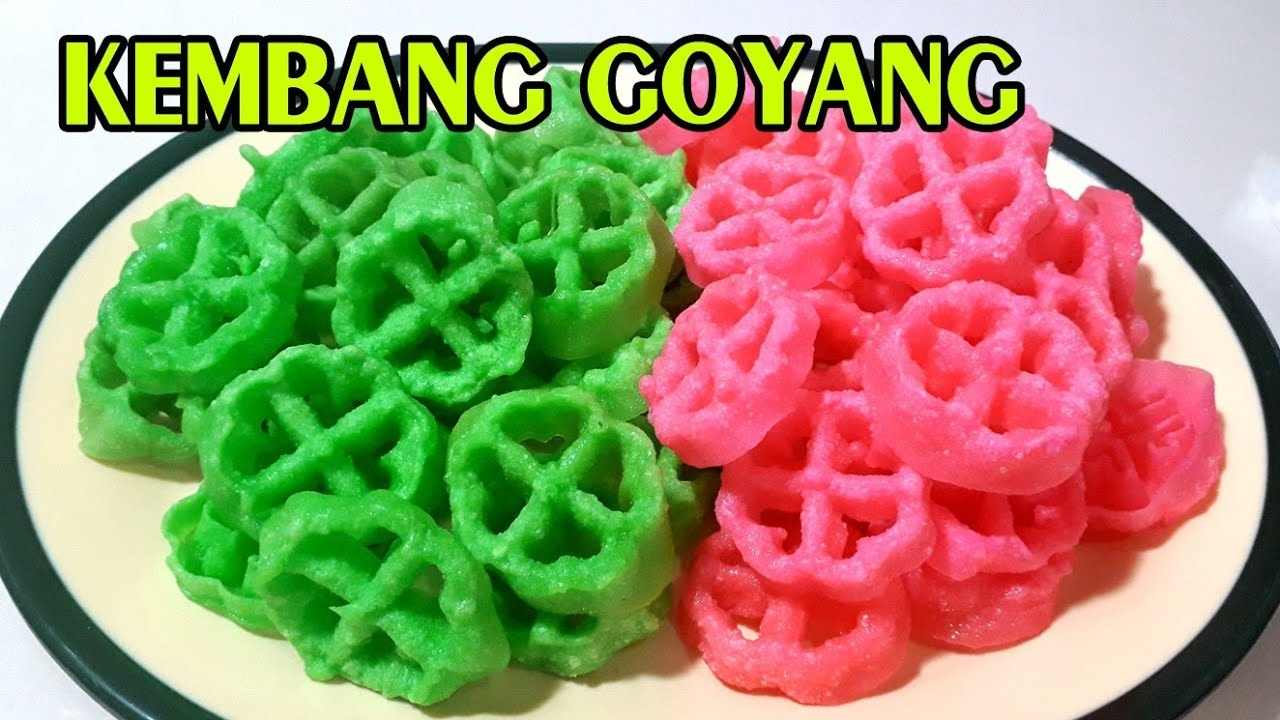kembang_goyang: (326, 202, 551, 385)
